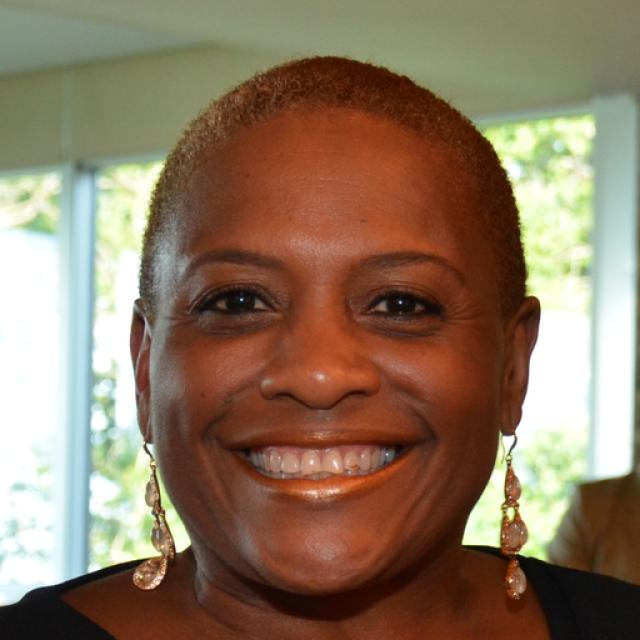Dark Circle: (356, 317, 441, 340), (197, 316, 281, 335)
